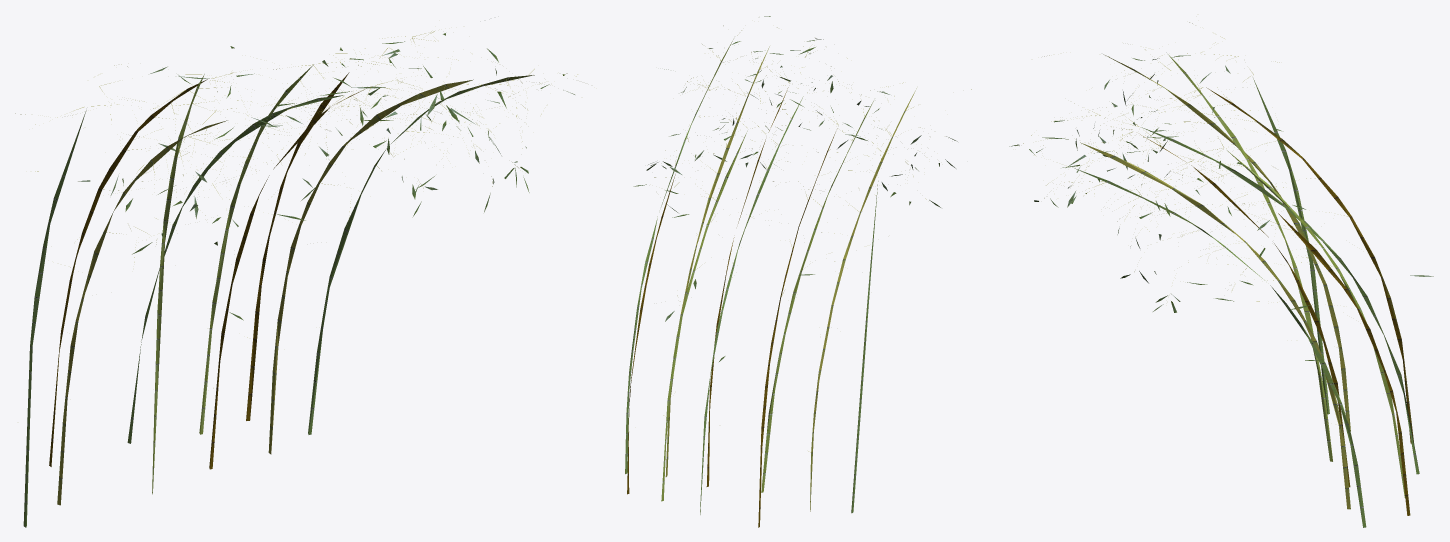
The model's file is sh-scopia-bamboo.glb.
3 views of the same model, side by side, from view 1: azimuth 30°, elevation 25°; view 2: azimuth 150°, elevation 25°; view 3: azimuth 270°, elevation 25° (orthographic). The views are drawn at different scales.
Parts seen in each view (by area): view 1: Trunk, Leaves; view 2: Trunk, Leaves; view 3: Trunk, Leaves.
Part boxes in pixels (box(x1,y1,x2,y2)): Trunk: box(23, 64, 534, 527); Leaves: box(15, 31, 577, 388); Trunk: box(625, 39, 916, 527); Leaves: box(633, 16, 971, 452); Trunk: box(1074, 52, 1419, 527); Leaves: box(1009, 22, 1433, 423).
Size of the model in its own units: 0.9099 by 0.9852 by 0.9617.
2 materials, 2 textured.
